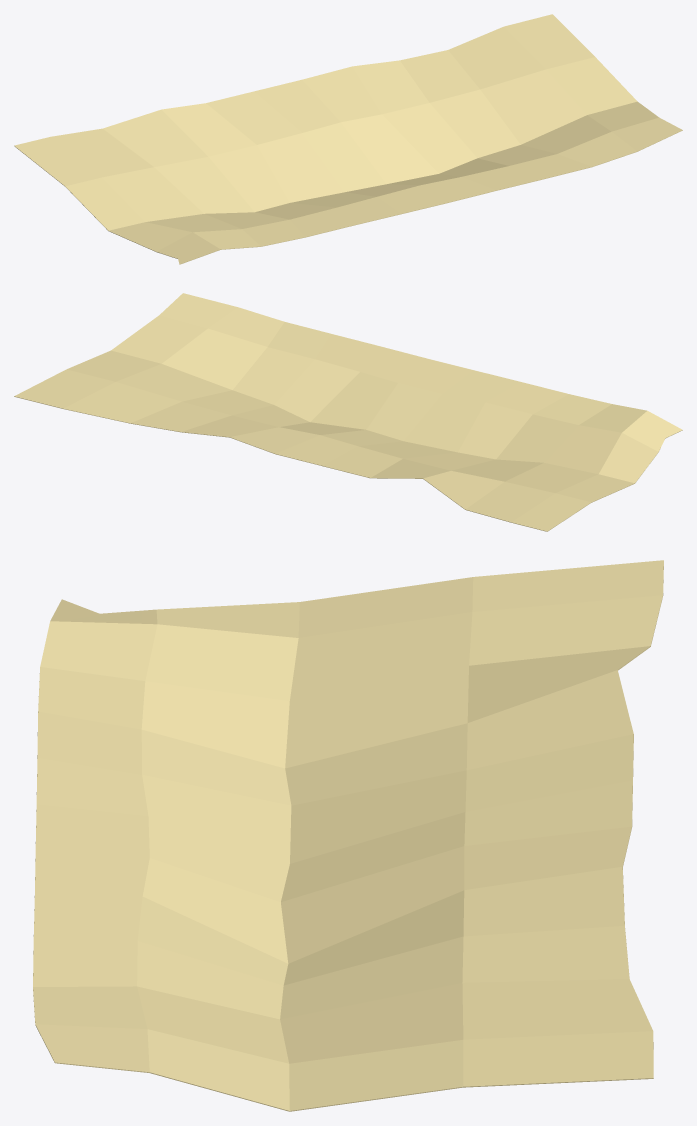
Rendered from Shed Rag.fbx.
3 renders of one model, top to bottom at view 1: azimuth 30°, elevation 25°; view 2: azimuth 150°, elevation 25°; view 3: azimuth 270°, elevation 25°, orthographic. The views are drawn at different scales.
Visible parts, largest first — view 1: Shed Rag; view 2: Shed Rag; view 3: Shed Rag.
Boxes of the visible parts, bbox=[...] form: Shed Rag: bbox=[14, 14, 682, 264]; Shed Rag: bbox=[14, 293, 682, 531]; Shed Rag: bbox=[33, 560, 663, 1111].
Size of the model in its own units: 709 by 65.8 by 361.
